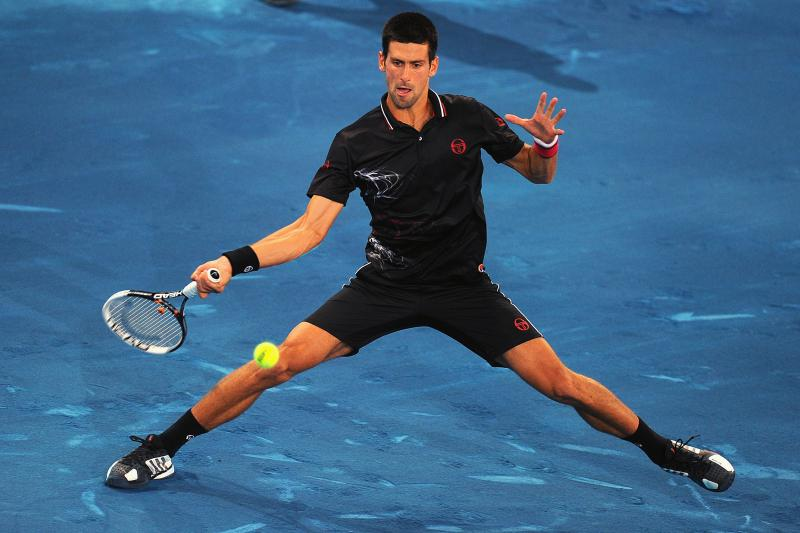tennis ball: (251, 341, 287, 370)
tennis player: (98, 10, 737, 508)
